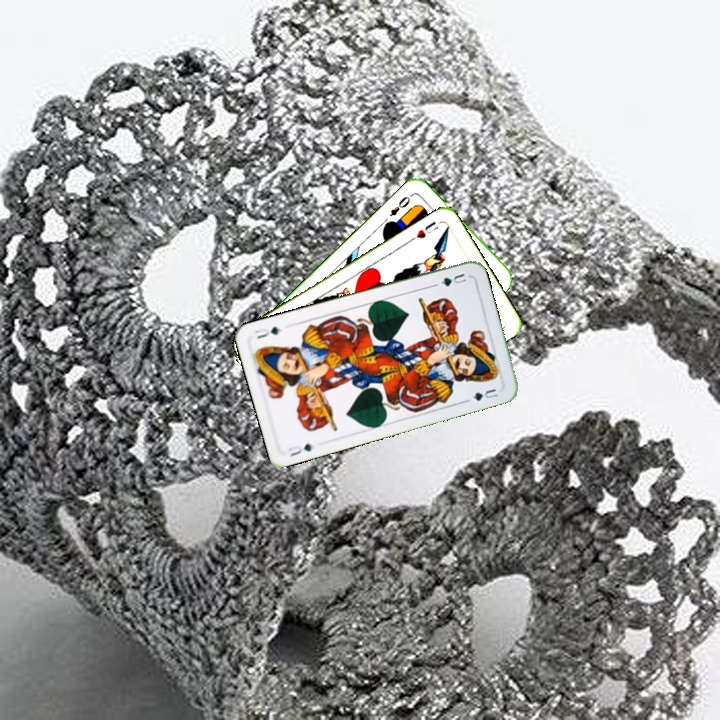EO: (385, 192, 413, 219)
GU: (431, 269, 469, 289), (284, 439, 317, 459)
HU: (406, 217, 441, 244)
